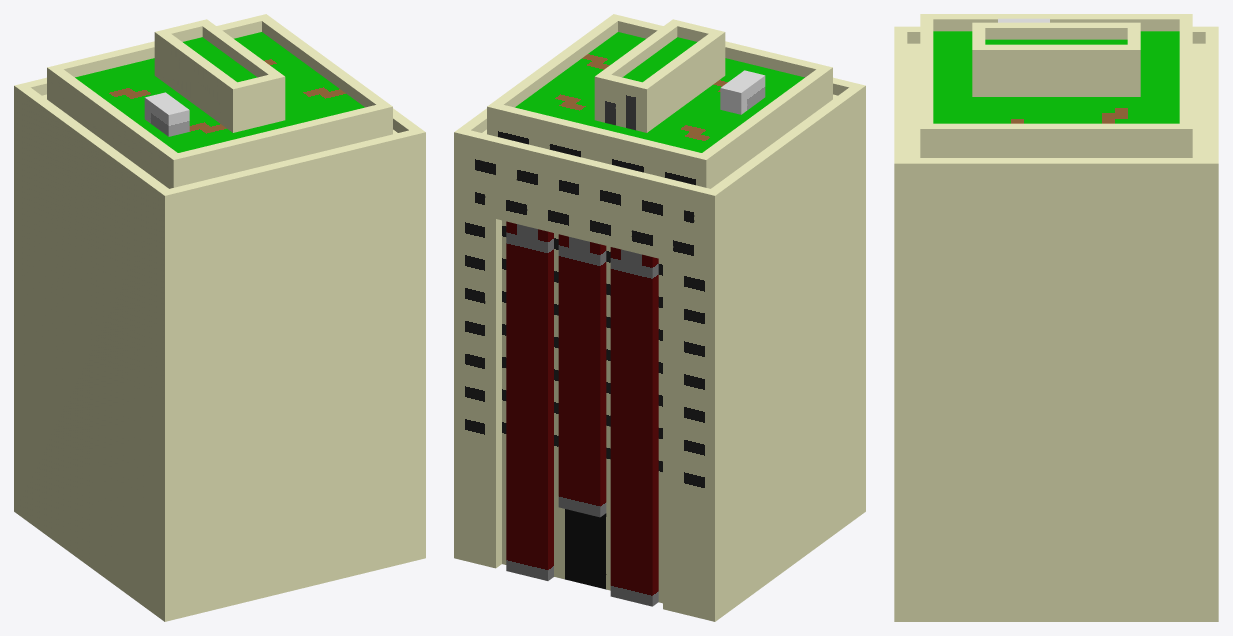
Rendered from Portland.dae.
3 views of the same model, side by side, from view 1: azimuth 30°, elevation 25°; view 2: azimuth 150°, elevation 25°; view 3: azimuth 270°, elevation 25° (orthographic). The views are drawn at different scales.
Parts seen in each view (by area): view 1: portland.merged; view 2: portland.merged; view 3: portland.merged.
Boxes of the visible parts, box(x1,y1,x2,y2) form: portland.merged: box(14, 14, 425, 621); portland.merged: box(454, 14, 865, 621); portland.merged: box(894, 14, 1218, 621).
Size of the model in its own units: 2.5 by 2.5 by 4.4.
1 material, 1 textured.
